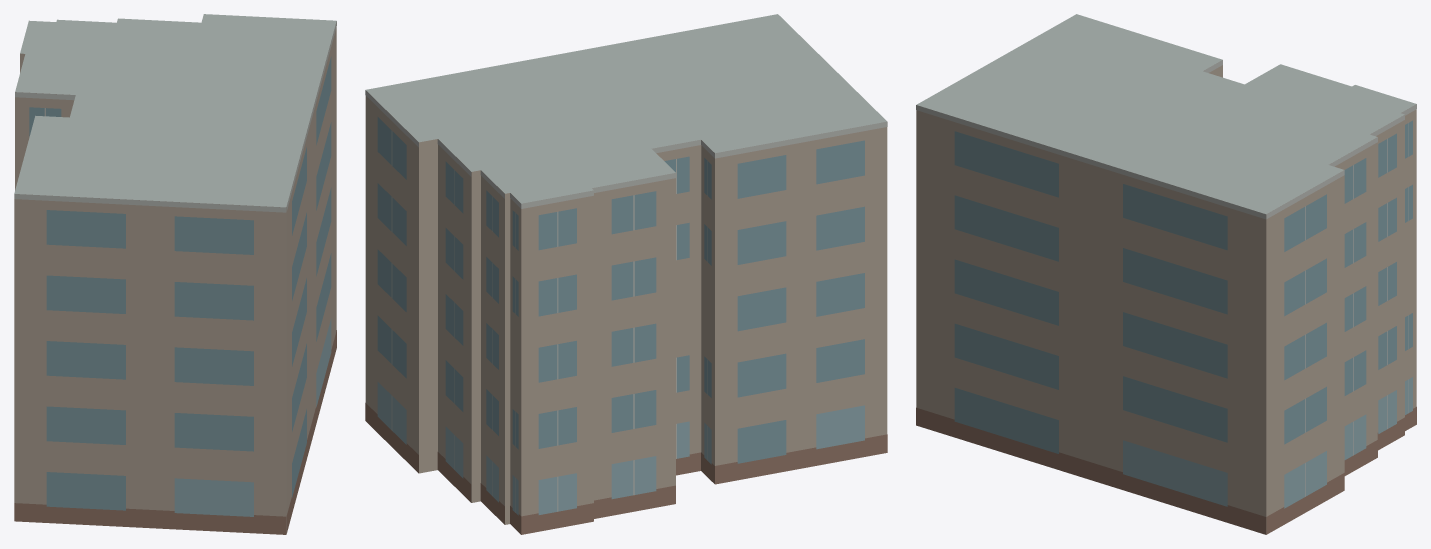
The model's file is survey-upis-32768393.glb.
3 views of the same model, side by side, from view 1: azimuth 30°, elevation 25°; view 2: azimuth 150°, elevation 25°; view 3: azimuth 270°, elevation 25° (orthographic). The views are drawn at different scales.
Visible parts, largest first — view 1: survey-upis-32768393.tmp; view 2: survey-upis-32768393.tmp; view 3: survey-upis-32768393.tmp.
Part boxes in pixels (x1,y1,x2,y2): survey-upis-32768393.tmp: (14, 14, 336, 534); survey-upis-32768393.tmp: (365, 14, 887, 534); survey-upis-32768393.tmp: (916, 14, 1416, 534).
Size of the model in its own units: 20.45 by 15.25 by 21.59.
